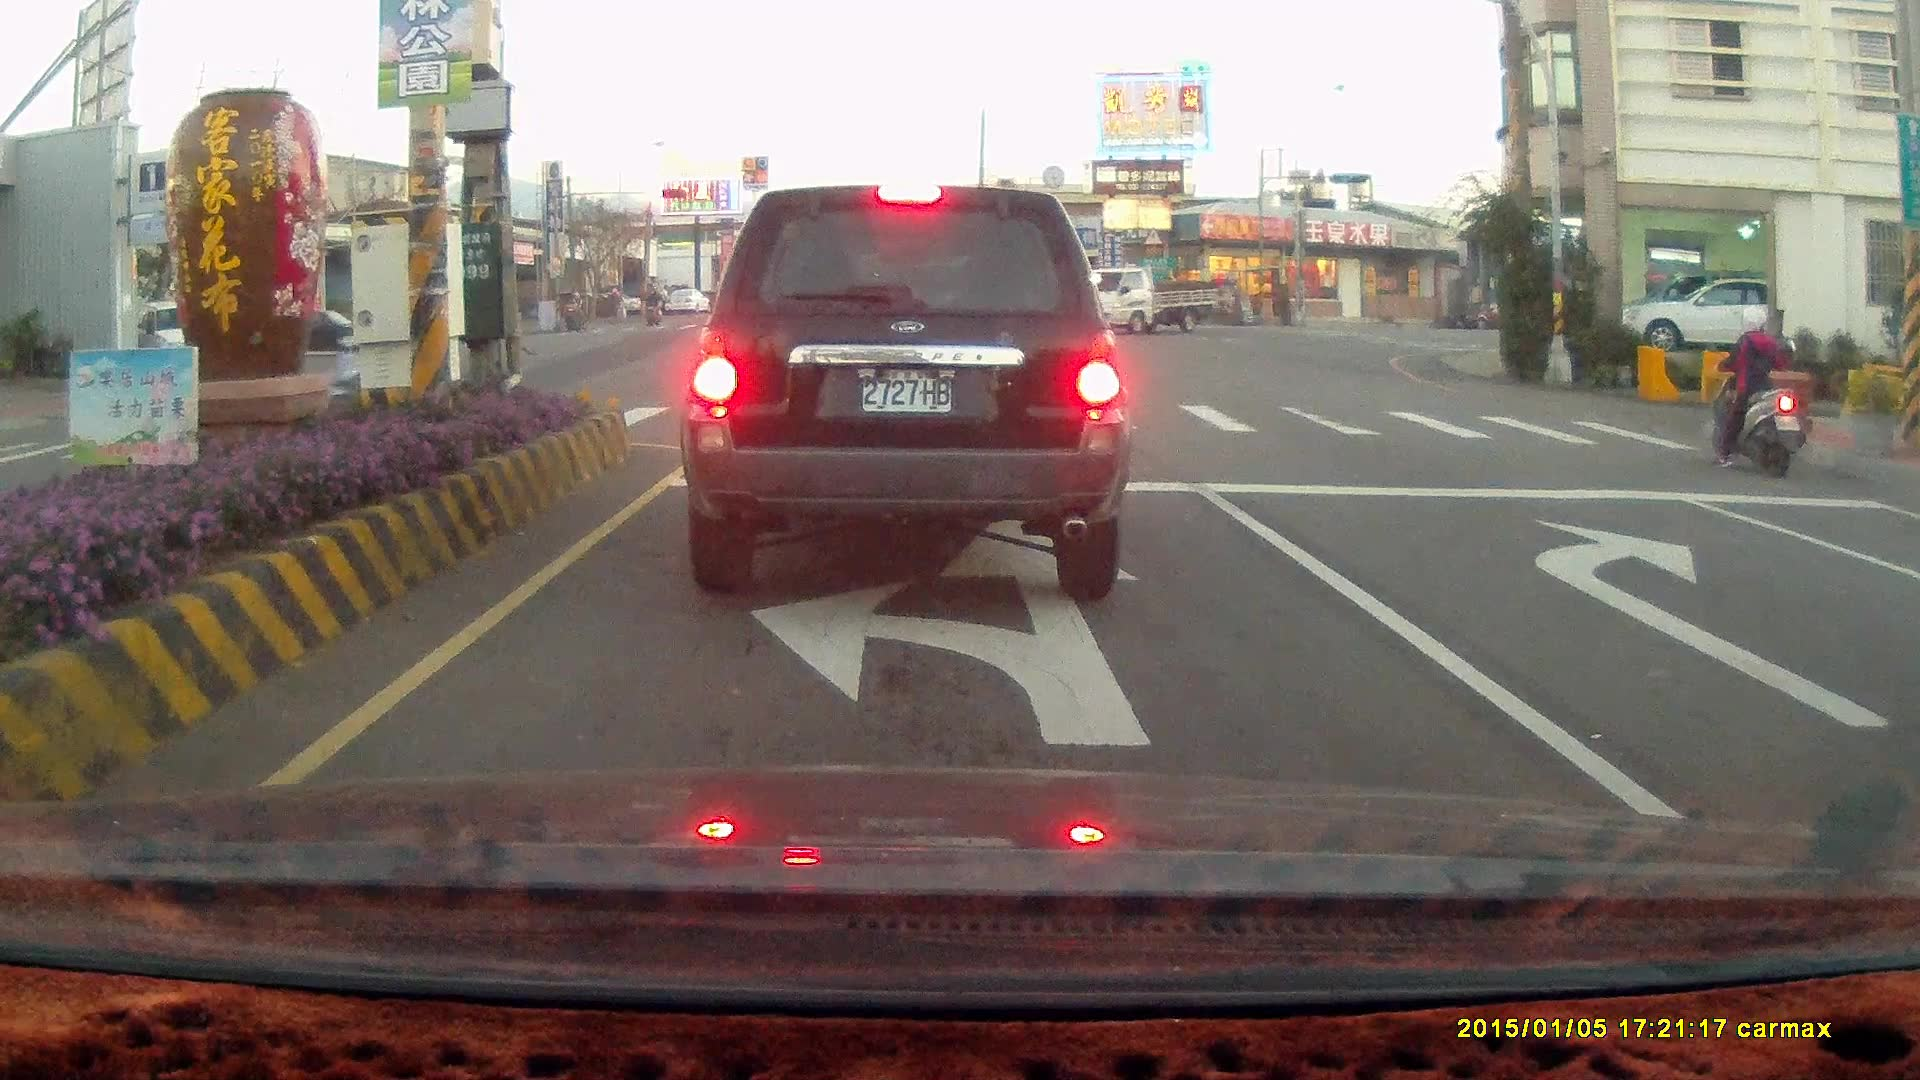rider: (1711, 307, 1809, 477), (321, 289, 404, 421), (560, 291, 585, 331), (645, 288, 666, 325)
vehicle: (676, 181, 1132, 603), (863, 260, 1037, 356), (1617, 273, 1817, 355), (1630, 277, 1770, 355), (1080, 264, 1225, 338), (118, 300, 230, 382), (1896, 493, 1920, 836), (1883, 528, 1920, 690)
